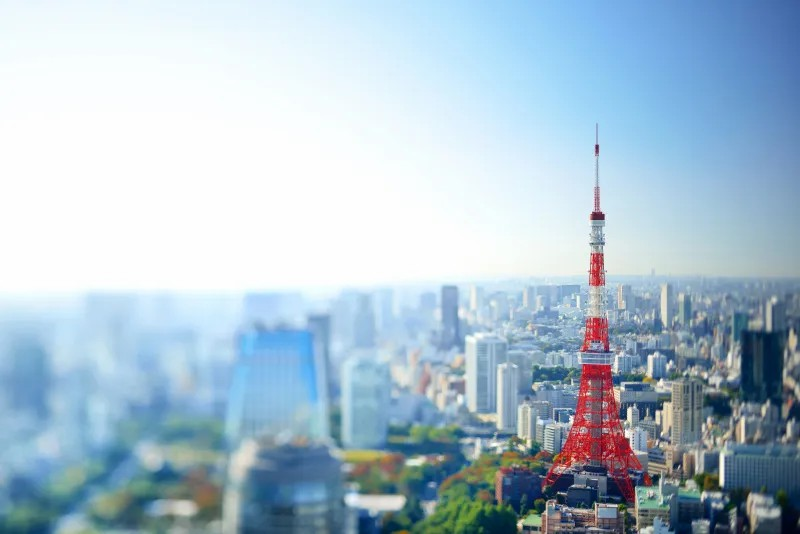Tokyo: (541, 119, 652, 491)
